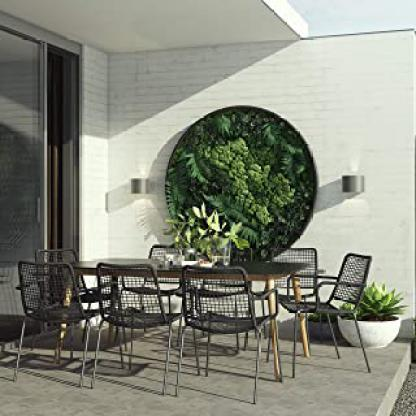table: (36, 254, 312, 387)
